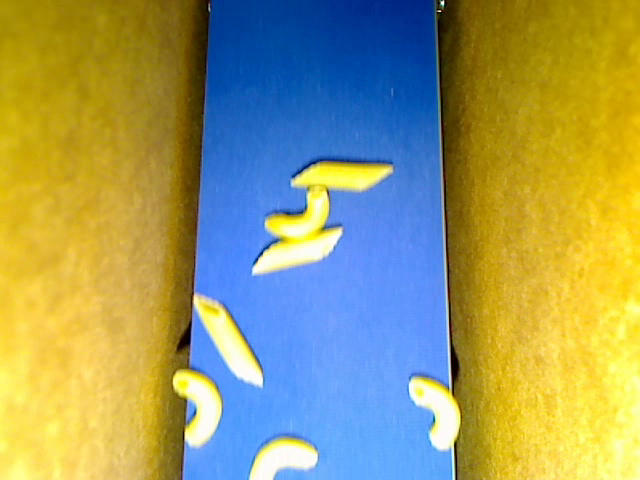elbow: (171, 368, 223, 448), (407, 376, 460, 451), (264, 186, 330, 241), (248, 435, 318, 479)
penne: (192, 292, 263, 388), (250, 226, 344, 277), (289, 158, 393, 192)
